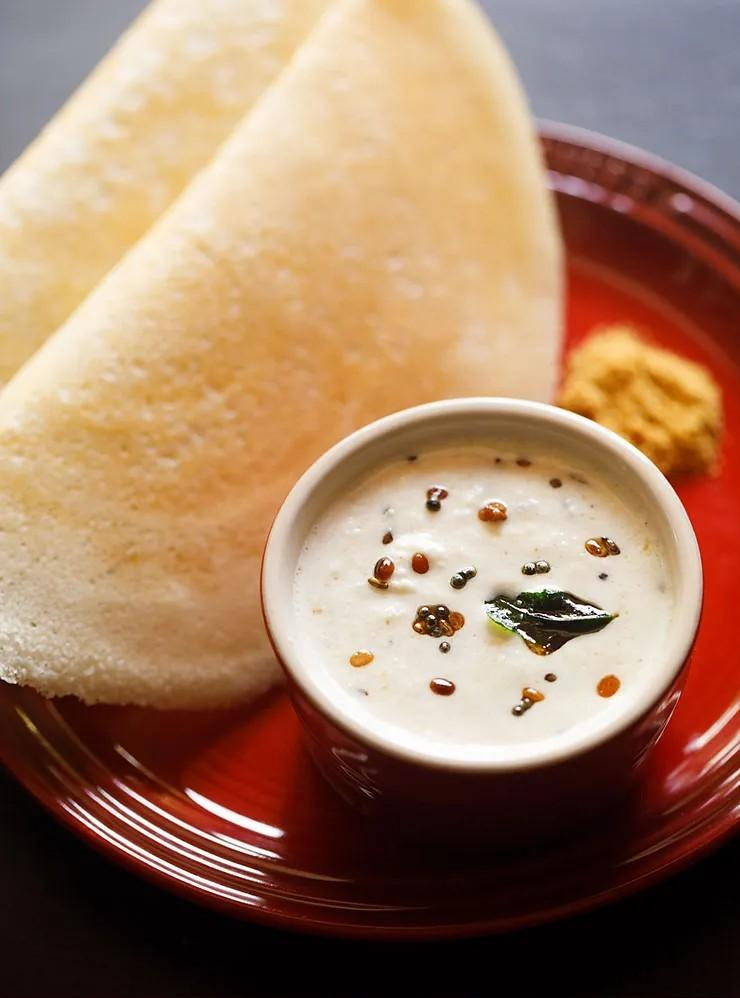CoconutChutney: (291, 441, 670, 746)
